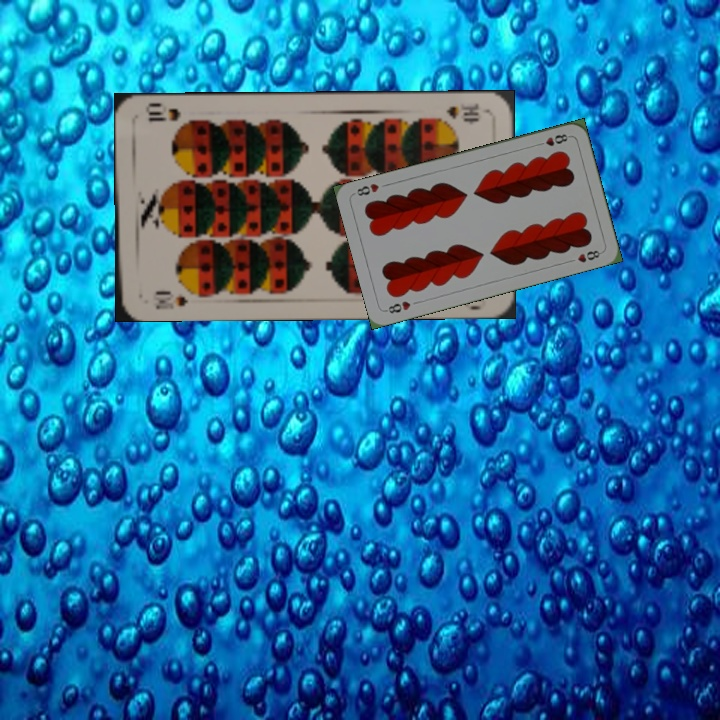H8: (532, 130, 572, 149), (382, 297, 413, 316)
S10: (442, 99, 482, 124), (151, 287, 191, 312)
